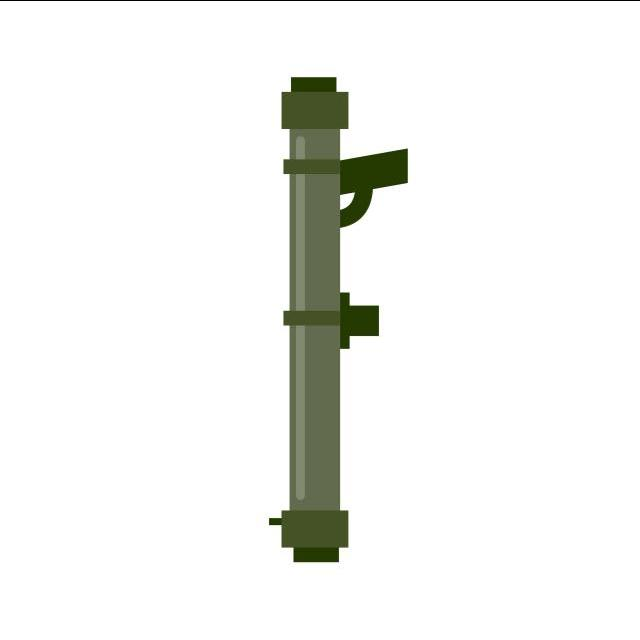rocket launcher: (256, 63, 414, 569)
